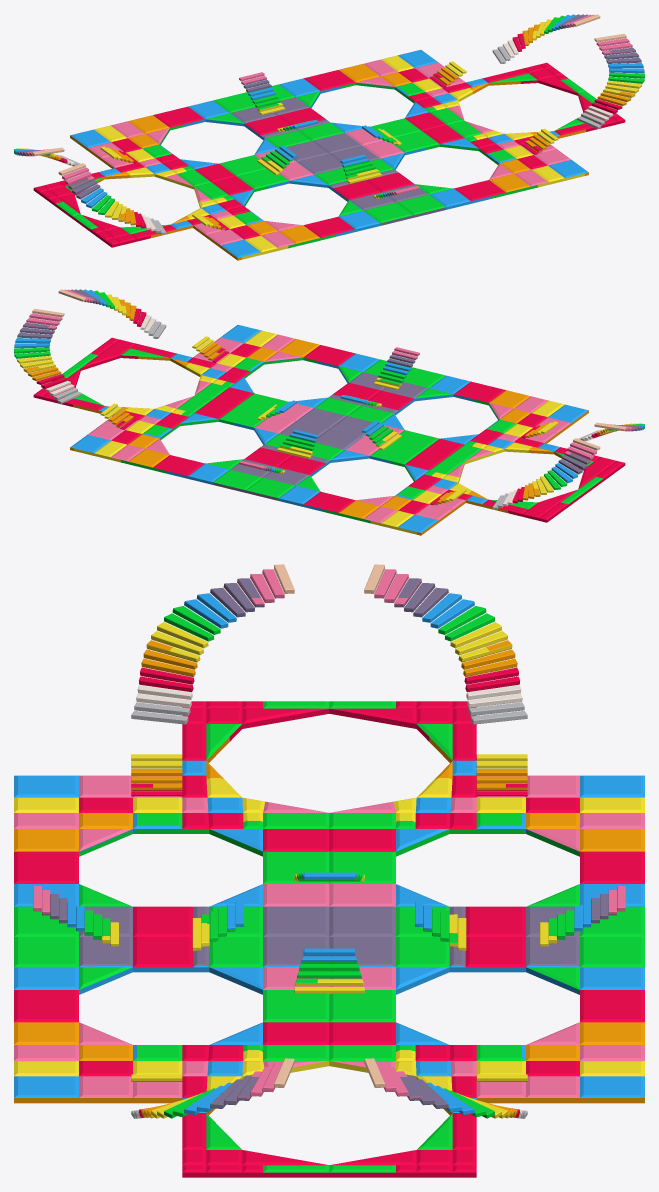
The model's file is nonCollidable.fbx.
3 views of the same model, one above another, from view 1: azimuth 30°, elevation 25°; view 2: azimuth 150°, elevation 25°; view 3: azimuth 270°, elevation 25° (orthographic). The views are drawn at different scales.
Parts seen in each view (by area): view 1: Cube.001, Cube.040, Cube.037, Cube.005, Cube.031, Cube.028; view 2: Cube.001, Cube.040, Cube.037, Cube.005, Cube.014, Cube.028; view 3: Cube.001, Cube.040, Cube.037, Cube.005, Cube.034, Cube.014, Cube.031.
Part boxes in pixels (x1,y1,x2,y2): Cube.001: (33, 50, 625, 260); Cube.040: (14, 14, 644, 234); Cube.037: (100, 61, 558, 230); Cube.005: (239, 72, 419, 198); Cube.031: (340, 154, 381, 183); Cube.028: (257, 145, 296, 174); Cube.001: (33, 325, 625, 535); Cube.040: (14, 289, 644, 509); Cube.037: (100, 336, 558, 505); Cube.005: (239, 347, 419, 473); Cube.014: (277, 429, 318, 458); Cube.028: (362, 420, 401, 449); Cube.001: (14, 701, 644, 1177); Cube.040: (131, 564, 527, 1118); Cube.037: (131, 754, 527, 1081); Cube.005: (33, 886, 625, 946); Cube.034: (294, 948, 364, 993); Cube.014: (415, 901, 466, 950); Cube.031: (192, 901, 243, 950).
Bounding box in the file's own units: 18265 × 1934 × 9370.
